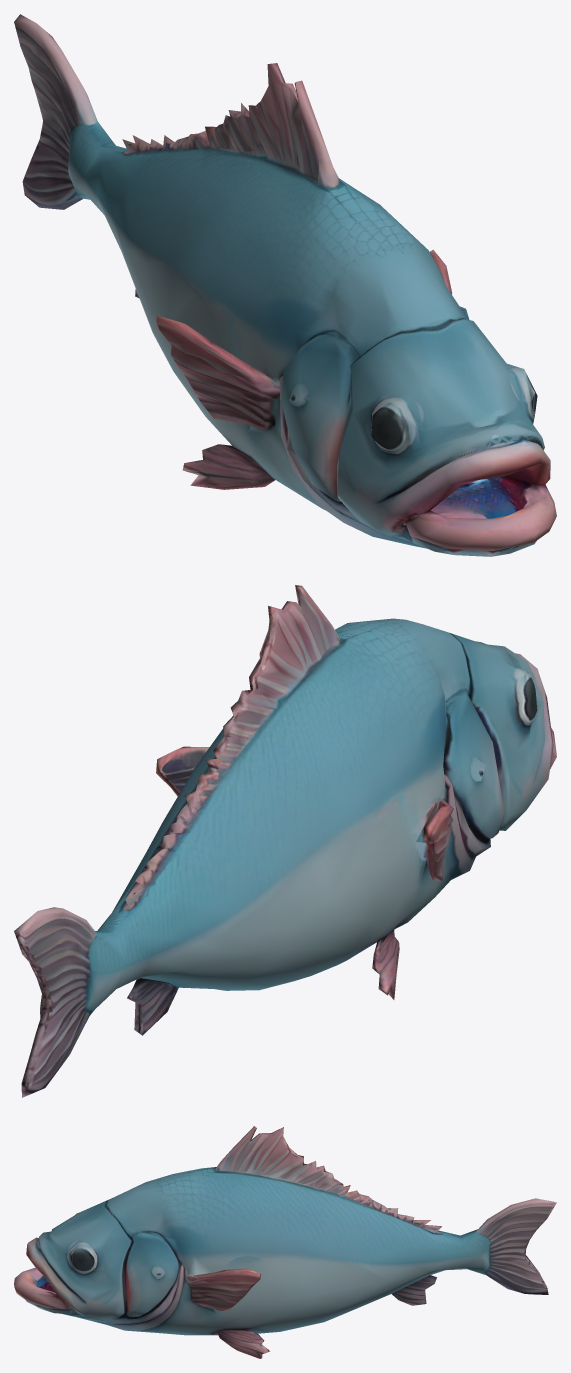
The model's file is TripoModel.glb.
3 views of the same model, one above another, from view 1: azimuth 30°, elevation 25°; view 2: azimuth 150°, elevation 25°; view 3: azimuth 270°, elevation 25° (orthographic). The views are drawn at different scales.
Parts seen in each view (by area): view 1: tripo_node_e32f5957-4629-4295-9e98-738dfdbc5028; view 2: tripo_node_e32f5957-4629-4295-9e98-738dfdbc5028; view 3: tripo_node_e32f5957-4629-4295-9e98-738dfdbc5028.
Boxes of the visible parts, box(x1,y1,x2,y2) form: tripo_node_e32f5957-4629-4295-9e98-738dfdbc5028: box(14, 14, 556, 556); tripo_node_e32f5957-4629-4295-9e98-738dfdbc5028: box(14, 585, 556, 1097); tripo_node_e32f5957-4629-4295-9e98-738dfdbc5028: box(14, 1126, 556, 1358).
Size of the model in its own units: 0.3171 by 0.4206 by 1.
1 material, 1 textured.
